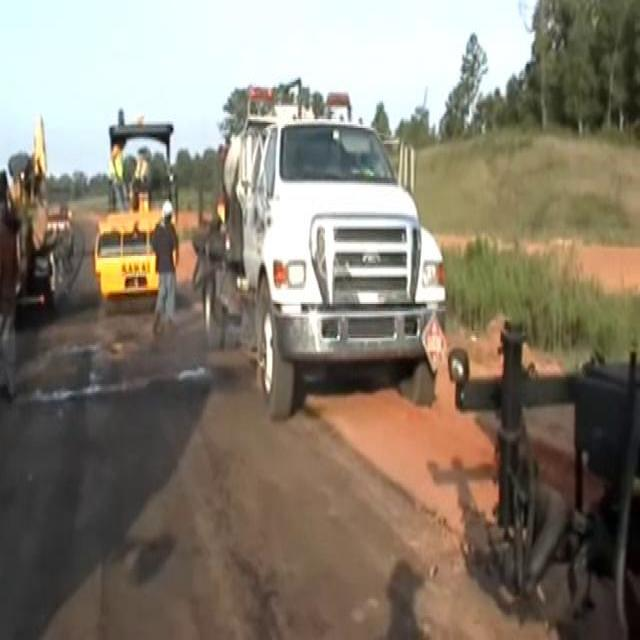Dump Truck: (196, 64, 450, 428)
Roller: (90, 107, 179, 309)
